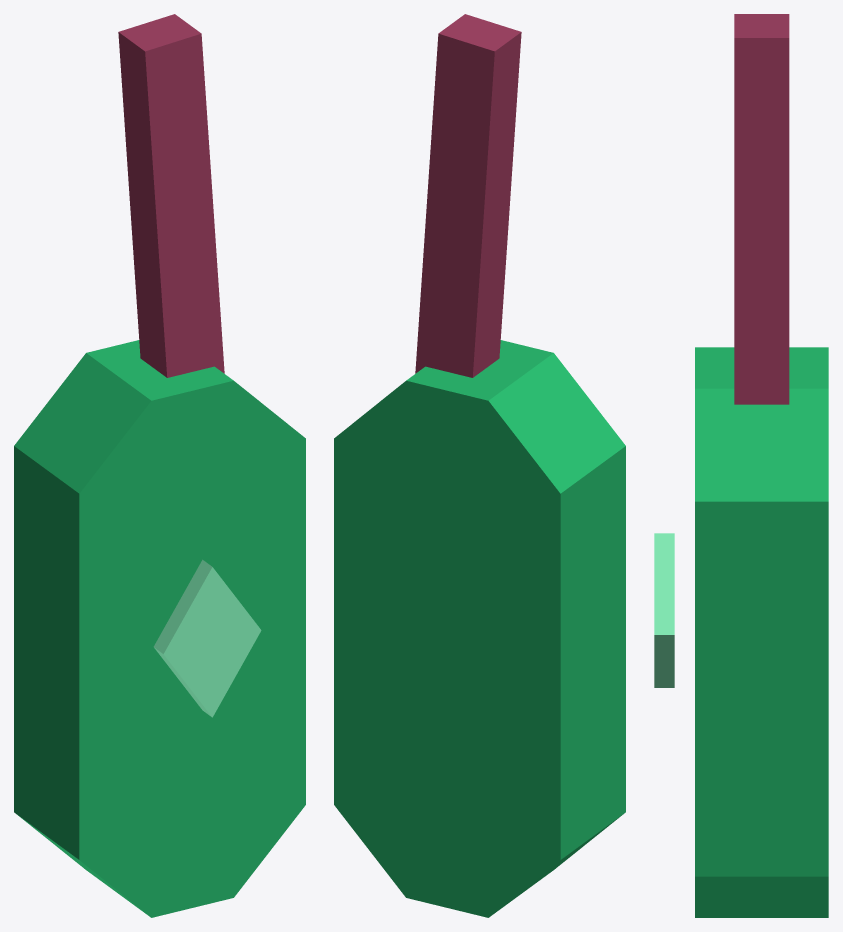
File: jade_tongue.obj
3 views of the same model, side by side, from view 1: azimuth 30°, elevation 25°; view 2: azimuth 150°, elevation 25°; view 3: azimuth 270°, elevation 25° (orthographic). The views are drawn at different scales.
Parts seen in each view (by area): view 1: jade_tongue, jade_tongue_edge, jade_cord, jade_cord_edge, tongue_glint, tongue_glint_edge; view 2: jade_tongue, jade_tongue_edge, jade_cord, jade_cord_edge; view 3: jade_tongue_edge, jade_cord_edge, tongue_glint_edge.
Part boxes in pixels (left/top/right/bottom): jade_tongue: left=79, top=380, right=305, bottom=917; jade_tongue_edge: left=14, top=340, right=233, bottom=916; jade_cord: left=145, top=33, right=224, bottom=377; jade_cord_edge: left=118, top=14, right=201, bottom=377; tongue_glint: left=163, top=567, right=261, bottom=717; tongue_glint_edge: left=153, top=559, right=212, bottom=716; jade_tongue: left=334, top=380, right=560, bottom=917; jade_tongue_edge: left=406, top=340, right=625, bottom=916; jade_cord: left=415, top=33, right=494, bottom=377; jade_cord_edge: left=438, top=14, right=521, bottom=377; jade_tongue_edge: left=695, top=347, right=828, bottom=917; jade_cord_edge: left=734, top=14, right=789, bottom=404; tongue_glint_edge: left=654, top=533, right=674, bottom=687.
Bounding box in the file's own units: 0.22 × 0.7919 × 0.1434.
